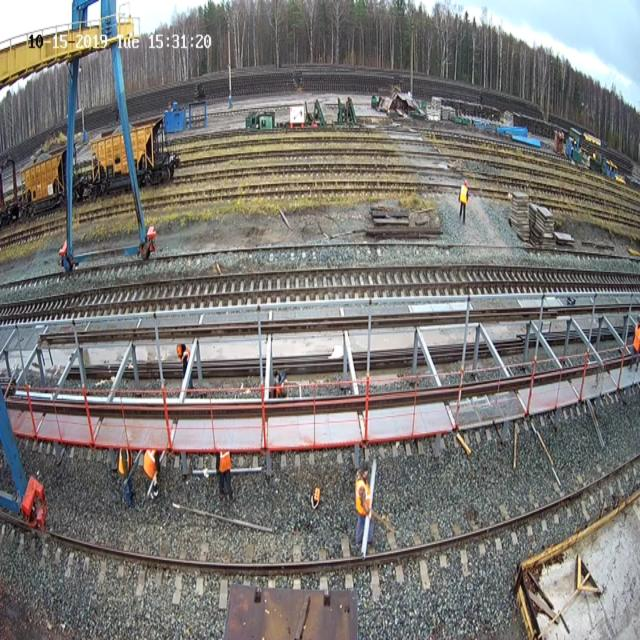Helmet: (176, 344, 183, 357), (464, 180, 468, 187)
Person: (353, 462, 374, 555), (118, 447, 134, 508), (218, 449, 234, 502), (177, 343, 194, 392), (144, 448, 160, 499), (628, 319, 640, 371), (458, 180, 469, 224)
